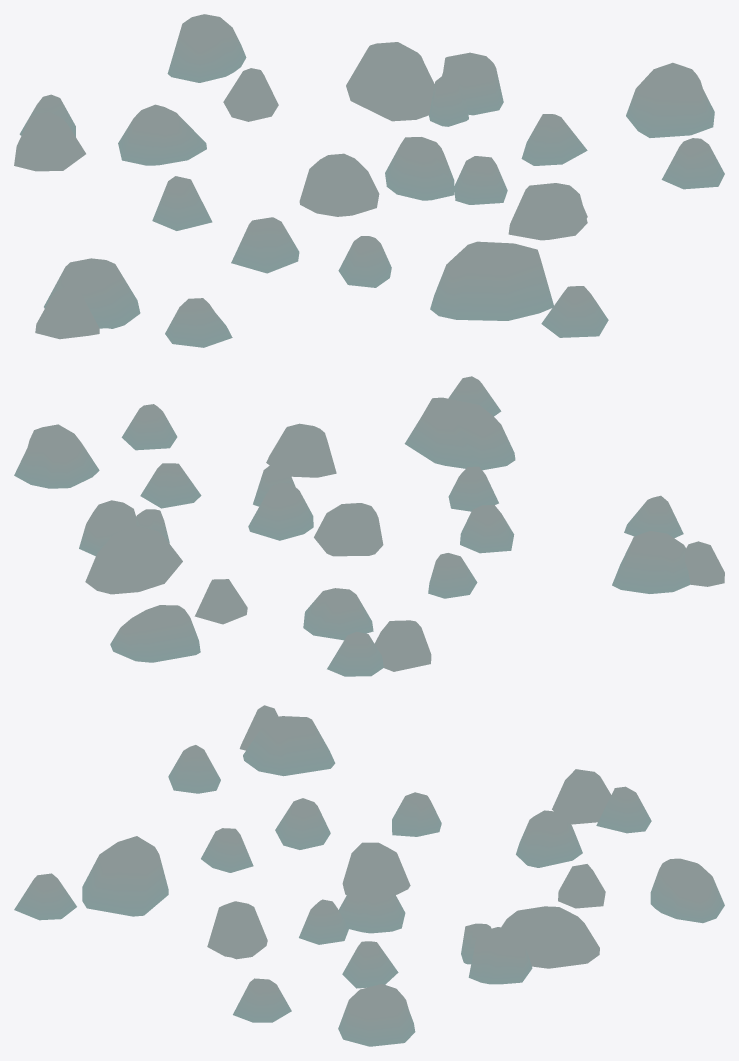
The picture shows the model from 3 angles, top to bottom: view 1: azimuth 30°, elevation 25°; view 2: azimuth 150°, elevation 25°; view 3: azimuth 270°, elevation 25°; orthographic projection. The views are drawn at different scales.
Parts seen in each view (by area): view 1: G:\FFXIV-MapTools\exports\n5f1\bg\ex4\01_nvt_n5\fld\n5f1\bgp; view 2: G:\FFXIV-MapTools\exports\n5f1\bg\ex4\01_nvt_n5\fld\n5f1\bgp; view 3: G:\FFXIV-MapTools\exports\n5f1\bg\ex4\01_nvt_n5\fld\n5f1\bgp.
Boxes of the visible parts, x1,y1,x2,y2 form: G:\FFXIV-MapTools\exports\n5f1\bg\ex4\01_nvt_n5\fld\n5f1\bgp: (14, 14, 724, 347); G:\FFXIV-MapTools\exports\n5f1\bg\ex4\01_nvt_n5\fld\n5f1\bgp: (14, 376, 724, 676); G:\FFXIV-MapTools\exports\n5f1\bg\ex4\01_nvt_n5\fld\n5f1\bgp: (14, 705, 724, 1046).
Bounding box in the file's own units: 7.57 × 0.4786 × 7.15.
